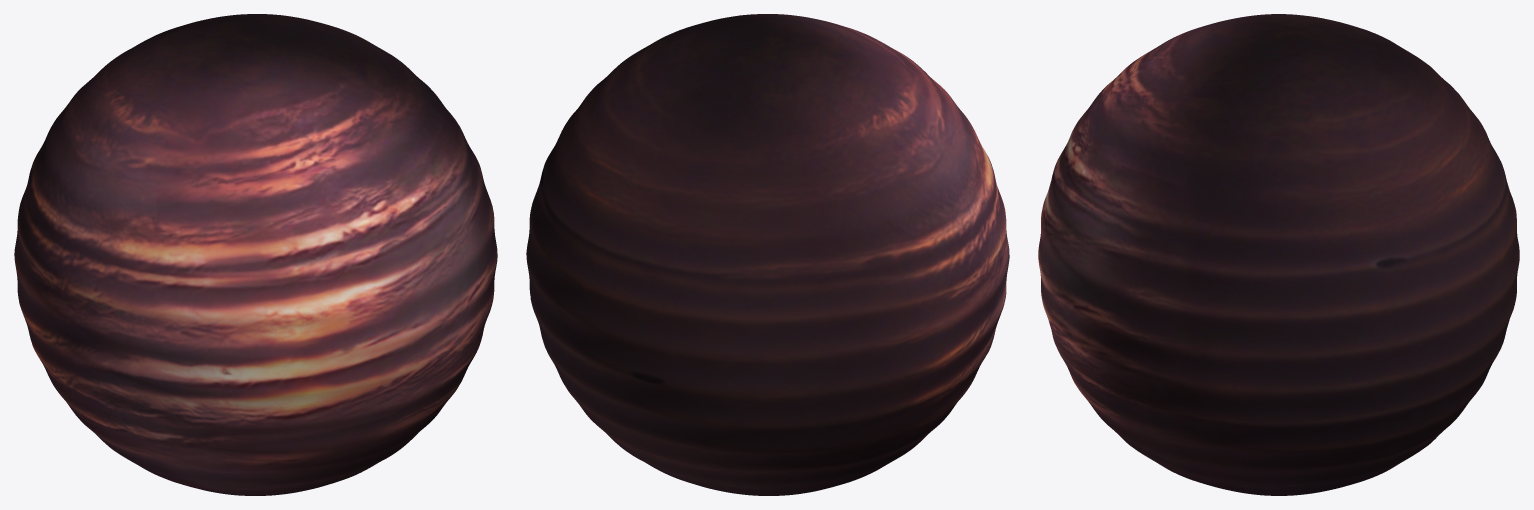
The model's file is Galactic_Glow_1006162707.glb.
3 renders of one model, left to right at view 1: azimuth 30°, elevation 25°; view 2: azimuth 150°, elevation 25°; view 3: azimuth 270°, elevation 25°, orthographic.
Size of the model in its own units: 2 by 1.99 by 2.
Materials: 1 (1 with a texture image).
